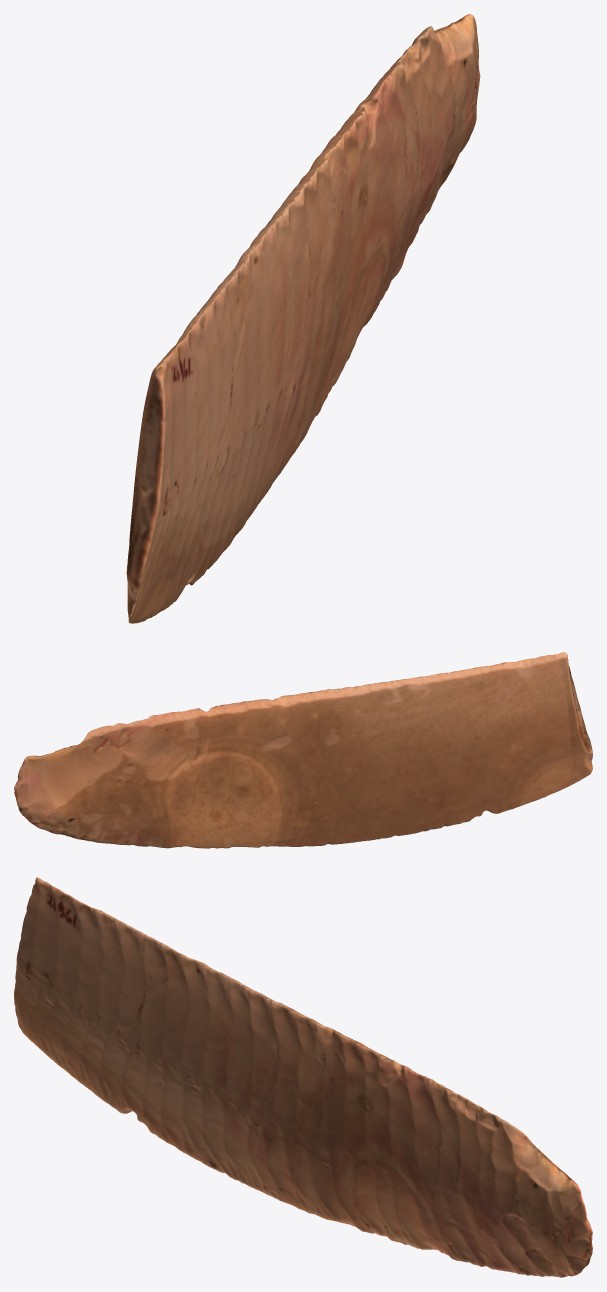
3 views of the same model, one above another, from view 1: azimuth 30°, elevation 25°; view 2: azimuth 150°, elevation 25°; view 3: azimuth 270°, elevation 25° (orthographic). The views are drawn at different scales.
Visible parts, largest first — view 1: Node; view 2: Node; view 3: Node.
Part boxes in pixels (x1,y1,x2,y2): Node: (126, 14, 480, 623); Node: (14, 652, 592, 848); Node: (14, 877, 592, 1277).
Size of the model in its own units: 156 by 64.13 by 147.
Materials: 1 (1 with a texture image).
